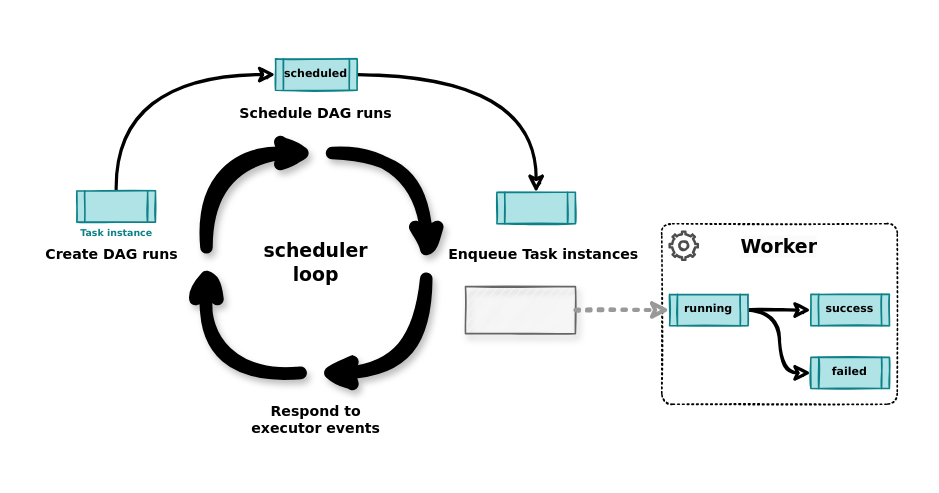
Image size: 939x493. Some labels were removed from this diagram. The centre of each missing label's shape, as x and y in pixels:
"Executor" belongs at (x=521, y=312).
"none" belongs at (x=115, y=205).
"queued" belongs at (x=535, y=207).
